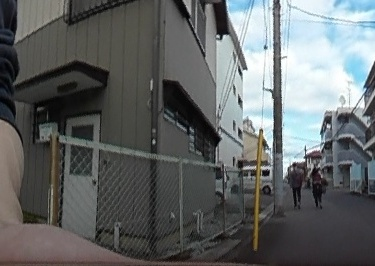person: (286, 159, 307, 207), (309, 163, 325, 209)
